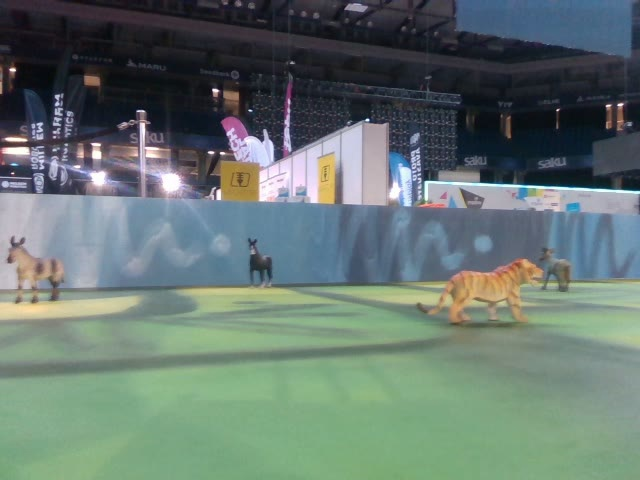toy: (419, 258, 544, 325), (6, 236, 66, 305), (245, 238, 274, 291)
